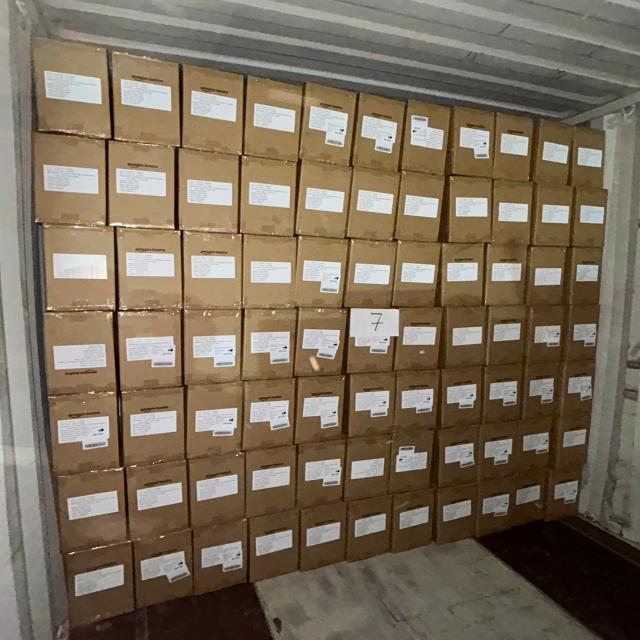Carton: (30, 34, 111, 139), (109, 50, 182, 151), (32, 131, 108, 226), (42, 222, 116, 308), (109, 140, 178, 232), (43, 310, 116, 394), (183, 60, 246, 153), (55, 471, 127, 552), (65, 541, 134, 625), (50, 394, 120, 474), (116, 226, 183, 308), (118, 308, 184, 389), (178, 150, 240, 234), (120, 388, 184, 467), (128, 460, 190, 540), (137, 528, 196, 611), (247, 75, 302, 164), (184, 232, 244, 312), (182, 311, 242, 387), (302, 82, 356, 166), (238, 157, 294, 237), (192, 519, 248, 598), (185, 383, 243, 459), (188, 456, 245, 530), (296, 165, 350, 242), (244, 235, 297, 311), (246, 311, 298, 384), (244, 379, 296, 452), (354, 93, 402, 172), (251, 510, 302, 584), (349, 168, 398, 242), (248, 447, 299, 518), (296, 237, 345, 310), (294, 308, 345, 377), (344, 239, 394, 309), (406, 102, 450, 180), (399, 172, 446, 245), (297, 377, 348, 444), (298, 504, 346, 574), (297, 439, 345, 508), (448, 107, 493, 180), (346, 493, 393, 562), (346, 309, 395, 374), (346, 374, 394, 438), (345, 435, 392, 500), (446, 178, 491, 245), (397, 243, 442, 310), (398, 309, 443, 374), (439, 245, 483, 310), (440, 309, 486, 371), (393, 489, 438, 552), (393, 432, 437, 496), (494, 112, 534, 182), (397, 372, 442, 432), (483, 246, 526, 308), (476, 472, 516, 538), (436, 427, 478, 489), (492, 180, 532, 244), (536, 118, 574, 184), (440, 369, 481, 430), (482, 366, 524, 425), (488, 307, 528, 368), (529, 308, 571, 366), (434, 486, 476, 544), (529, 249, 570, 308), (480, 422, 521, 481), (536, 187, 574, 249), (526, 364, 565, 421), (510, 469, 546, 527), (552, 415, 592, 467), (572, 188, 606, 248), (564, 306, 598, 363), (572, 127, 604, 186), (546, 470, 583, 521), (570, 250, 601, 308), (562, 359, 593, 415), (524, 418, 556, 468)
